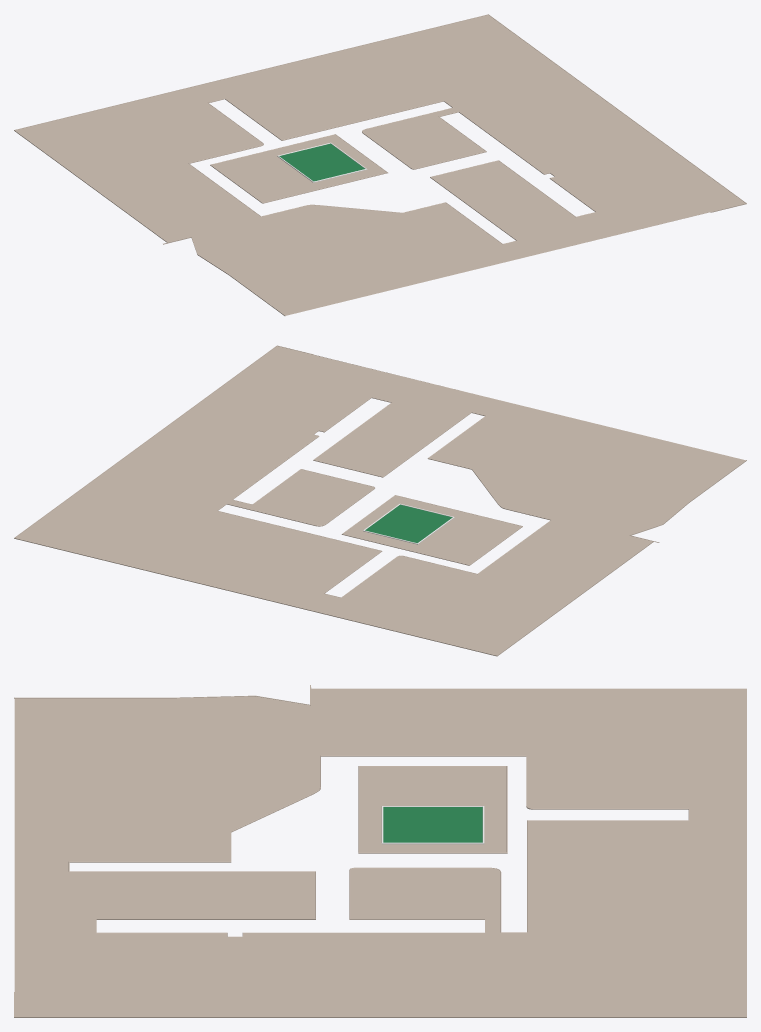
File: suelo_ayuntamiento_acera.fbx
3 views of the same model, one above another, from view 1: azimuth 30°, elevation 25°; view 2: azimuth 150°, elevation 25°; view 3: azimuth 270°, elevation 25° (orthographic). The views are drawn at different scales.
Visible parts, largest first — view 1: suelo_acera_ayuntamiento; view 2: suelo_acera_ayuntamiento; view 3: suelo_acera_ayuntamiento.
Boxes of the visible parts, x1=… form: suelo_acera_ayuntamiento: x1=14, y1=14, x2=746, y2=315; suelo_acera_ayuntamiento: x1=14, y1=345, x2=746, y2=656; suelo_acera_ayuntamiento: x1=14, y1=685, x2=746, y2=1017.
Size of the model in its own units: 235 by 0.588 by 219.
